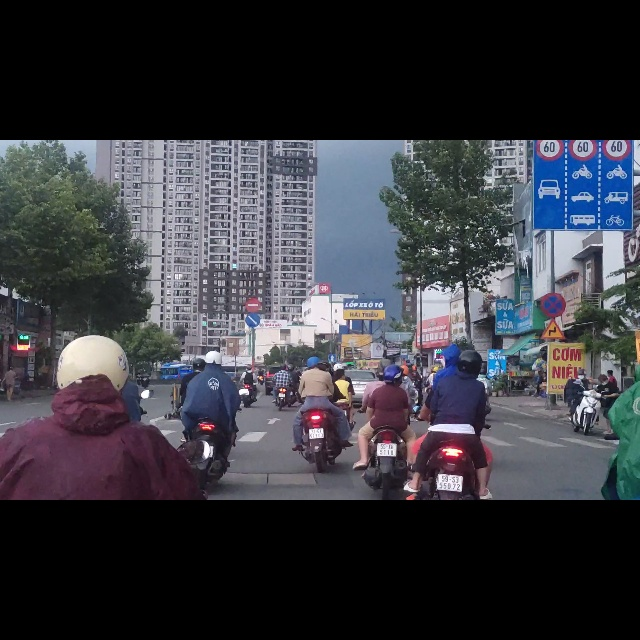bien_hieu_lenh: (533, 39, 633, 161), (541, 270, 565, 315), (602, 1, 631, 37), (535, 1, 564, 36), (569, 1, 597, 36), (540, 318, 565, 356), (246, 308, 261, 334), (246, 281, 261, 306), (400, 369, 408, 388), (329, 380, 337, 395)
